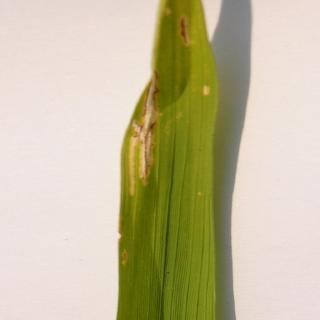Hawar-Daun: (122, 73, 168, 206), (158, 1, 210, 55), (192, 82, 215, 102)
